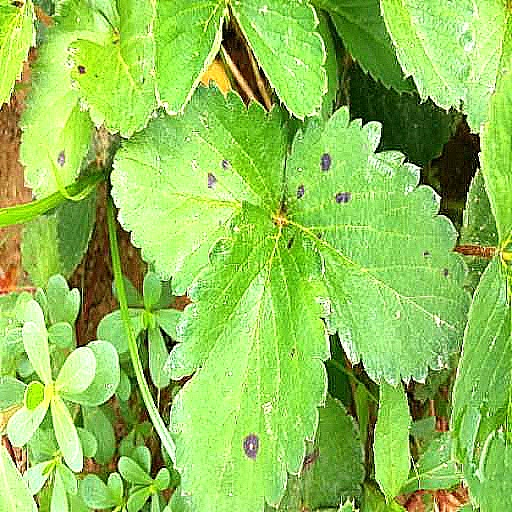Leaf Spot: (280, 106, 474, 389), (163, 201, 332, 511), (109, 76, 299, 297), (68, 0, 229, 141), (15, 0, 121, 201)
